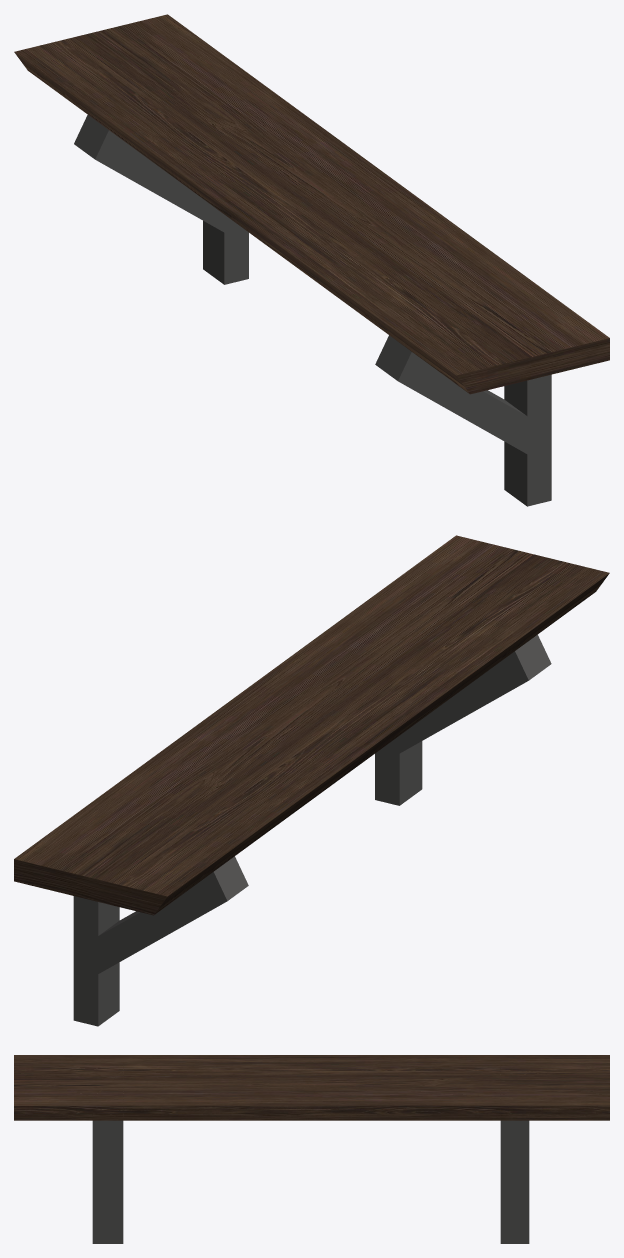
Rendered from F_Shelf_01.fbx.
3 views of the same model, one above another, from view 1: azimuth 30°, elevation 25°; view 2: azimuth 150°, elevation 25°; view 3: azimuth 270°, elevation 25° (orthographic). The views are drawn at different scales.
Parts seen in each view (by area): view 1: F_Shelf; view 2: F_Shelf; view 3: F_Shelf.
Boxes of the visible parts, x1,y1,x2,y2 form: F_Shelf: (14,14,609,506); F_Shelf: (14,535,609,1026); F_Shelf: (14,1055,609,1243).
Bounding box in the file's own units: 33.7 × 43 × 168.
1 material, 1 textured.
